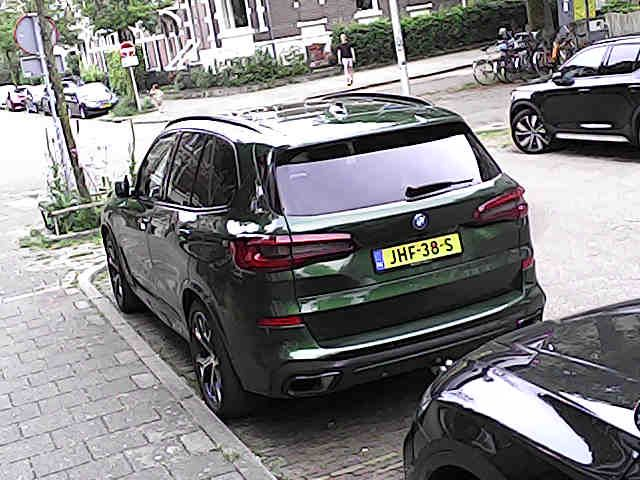suv: (101, 94, 544, 415), (404, 300, 639, 479), (510, 35, 639, 153), (64, 82, 118, 118), (0, 85, 27, 110), (25, 85, 45, 112)
